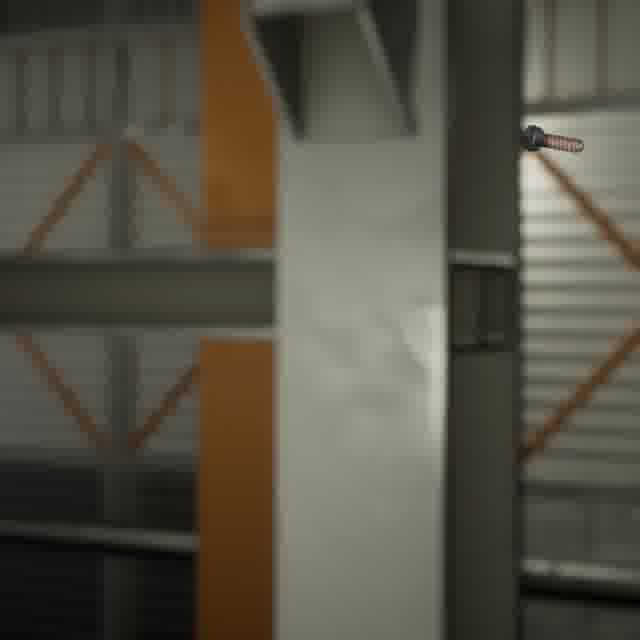bolt: (518, 120, 588, 157)
